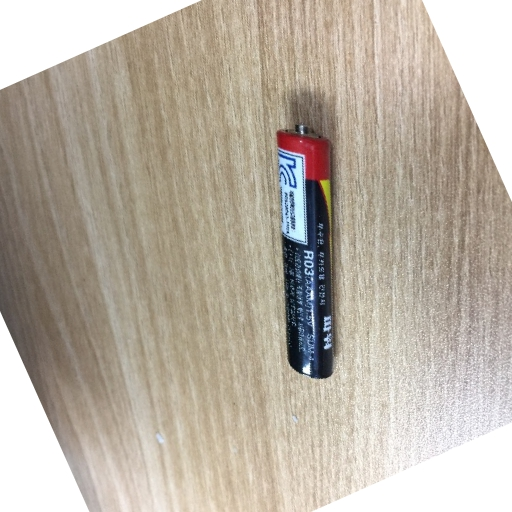Battery_0: (258, 107, 352, 389)
